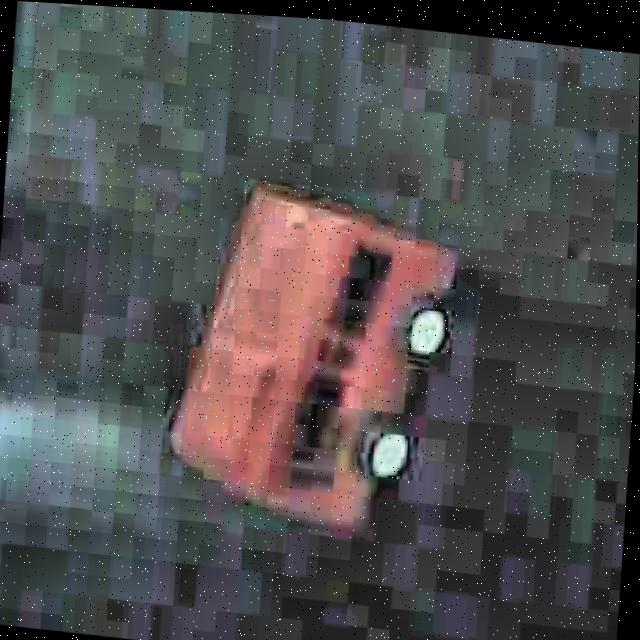bus: (161, 176, 455, 548)
